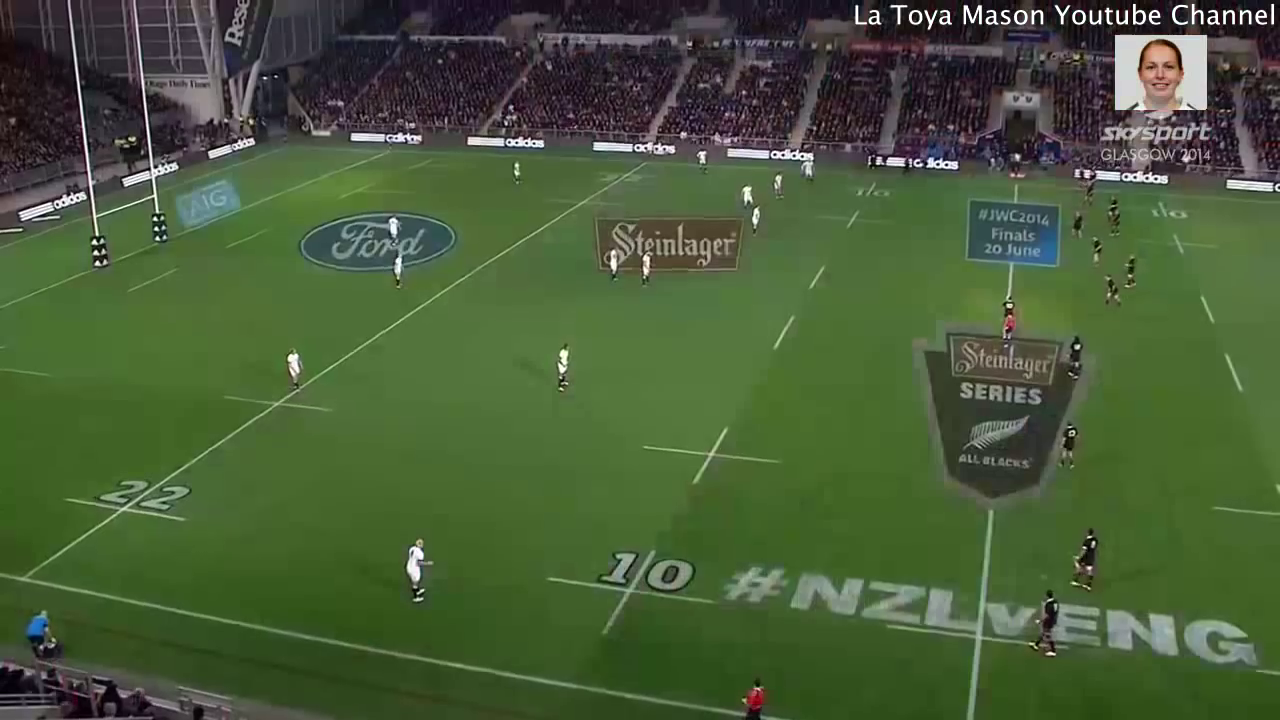10_metre: (541, 546, 718, 644), (638, 421, 785, 496), (1135, 231, 1226, 264), (1125, 198, 1208, 229), (817, 207, 894, 240), (848, 176, 892, 205)
player: (1065, 522, 1105, 600), (397, 528, 432, 606), (1029, 584, 1060, 660), (550, 336, 579, 398), (282, 346, 309, 400), (1065, 332, 1089, 388), (1056, 420, 1078, 476), (389, 245, 405, 296), (769, 167, 789, 206), (637, 246, 654, 290), (1118, 251, 1137, 290), (605, 247, 622, 287), (999, 313, 1016, 353), (1106, 272, 1124, 309), (800, 154, 819, 188), (384, 212, 401, 248), (511, 156, 528, 190), (737, 180, 757, 208), (694, 147, 709, 180), (999, 294, 1016, 322), (1089, 234, 1103, 265), (1081, 178, 1095, 209), (749, 204, 762, 236), (1070, 208, 1082, 240), (1109, 209, 1122, 235), (1108, 193, 1120, 212)
post: (78, 184, 171, 275)
